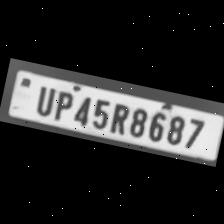4: (68, 91, 92, 126)
5: (86, 94, 111, 130)
6: (143, 106, 168, 142)
7: (181, 114, 206, 150)
8: (122, 102, 149, 140), (162, 110, 186, 146)
P: (49, 87, 74, 122)
R: (106, 98, 130, 134)
U: (29, 82, 57, 117)
